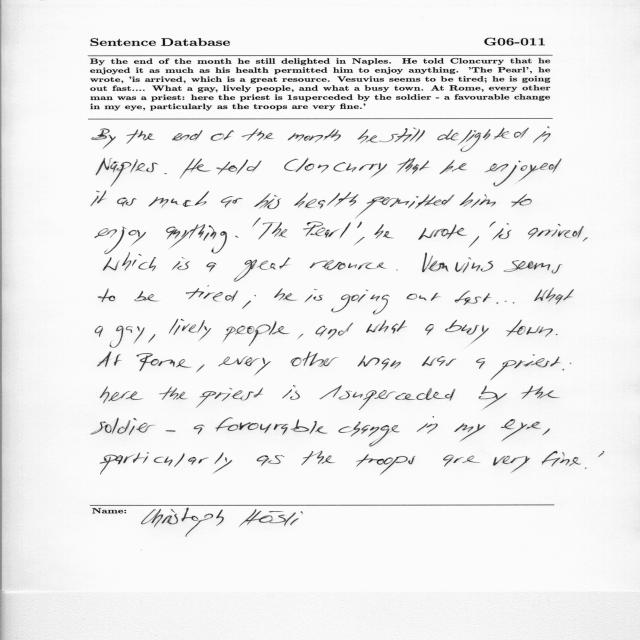word: (320, 385, 456, 410), (100, 452, 232, 475), (355, 195, 455, 219), (437, 127, 529, 152), (485, 159, 562, 187), (216, 417, 328, 435), (284, 158, 387, 177), (166, 224, 227, 254), (491, 355, 561, 381), (96, 158, 158, 187), (223, 321, 289, 346), (331, 289, 390, 315), (339, 422, 400, 447), (234, 257, 291, 282), (422, 253, 493, 273), (95, 227, 146, 254), (196, 388, 263, 408), (357, 454, 416, 475), (91, 417, 155, 435), (294, 192, 358, 209), (445, 320, 489, 344), (149, 191, 209, 208), (103, 253, 156, 272), (218, 356, 271, 375), (137, 353, 192, 371), (501, 419, 541, 442), (366, 128, 425, 143), (169, 319, 211, 340), (506, 319, 553, 337), (528, 224, 584, 239), (186, 286, 238, 302), (303, 222, 351, 239), (504, 260, 562, 274), (418, 224, 467, 240), (110, 326, 145, 348), (310, 260, 386, 270), (100, 387, 143, 404), (217, 159, 262, 175), (291, 352, 338, 367), (288, 129, 341, 142), (357, 356, 401, 371), (479, 386, 507, 409), (316, 323, 353, 340), (542, 451, 581, 467), (180, 159, 211, 179), (459, 192, 496, 208), (493, 456, 530, 472), (366, 320, 407, 334), (454, 423, 485, 441), (397, 158, 429, 174), (455, 291, 491, 305), (522, 386, 560, 399), (259, 222, 288, 239), (92, 129, 116, 149), (546, 288, 574, 305), (301, 451, 335, 465), (443, 455, 480, 467), (254, 193, 281, 209), (127, 129, 155, 144), (159, 386, 187, 400), (242, 129, 274, 141), (440, 160, 467, 174), (417, 416, 438, 434), (97, 352, 122, 367), (172, 130, 203, 141), (422, 356, 456, 366), (493, 223, 512, 240), (257, 455, 285, 466), (533, 126, 551, 143), (274, 288, 297, 301), (375, 224, 394, 239), (511, 194, 532, 207), (407, 293, 441, 301), (282, 385, 300, 400), (211, 130, 234, 141), (221, 196, 242, 208), (134, 291, 159, 301), (172, 257, 190, 270), (91, 191, 106, 206), (98, 289, 115, 302), (305, 289, 322, 302), (242, 295, 256, 309), (117, 198, 136, 207), (534, 289, 548, 301), (358, 129, 369, 143), (468, 236, 479, 248), (206, 262, 217, 272), (194, 425, 205, 435), (425, 324, 434, 335), (476, 358, 485, 369), (354, 237, 365, 245), (95, 326, 103, 337), (252, 218, 261, 226), (196, 364, 205, 372), (563, 363, 572, 371), (149, 334, 156, 343), (542, 429, 550, 436), (496, 301, 514, 304), (489, 222, 496, 228), (598, 451, 604, 457), (357, 222, 362, 228), (298, 334, 304, 338), (165, 430, 176, 432), (583, 238, 588, 242), (235, 236, 238, 238), (585, 467, 587, 469), (164, 173, 167, 174), (396, 270, 398, 271), (556, 334, 558, 335)
